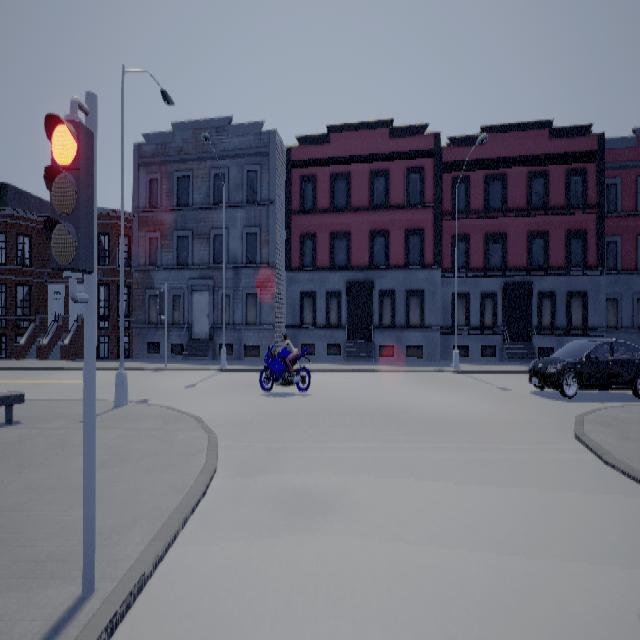motobike: (260, 330, 312, 391)
red_light: (44, 95, 95, 302)
vehicle: (529, 337, 640, 397)
